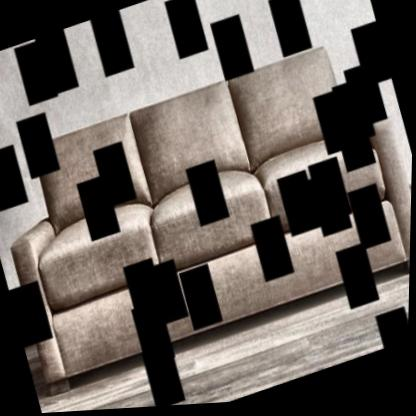Sofa: (0, 27, 415, 387)
